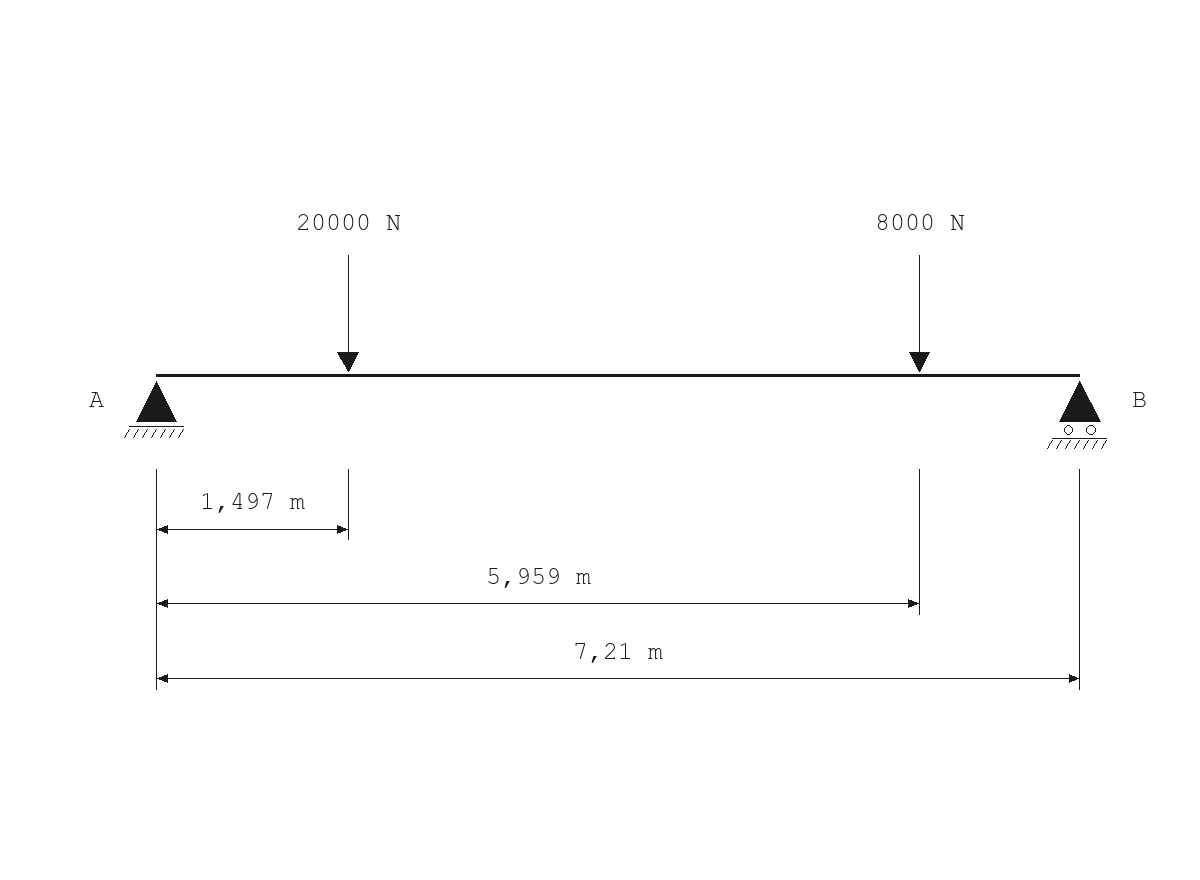pin_support: (124, 381, 184, 438)
point_load: (337, 255, 359, 372), (909, 255, 930, 372)
roller_support: (1047, 381, 1107, 449)
